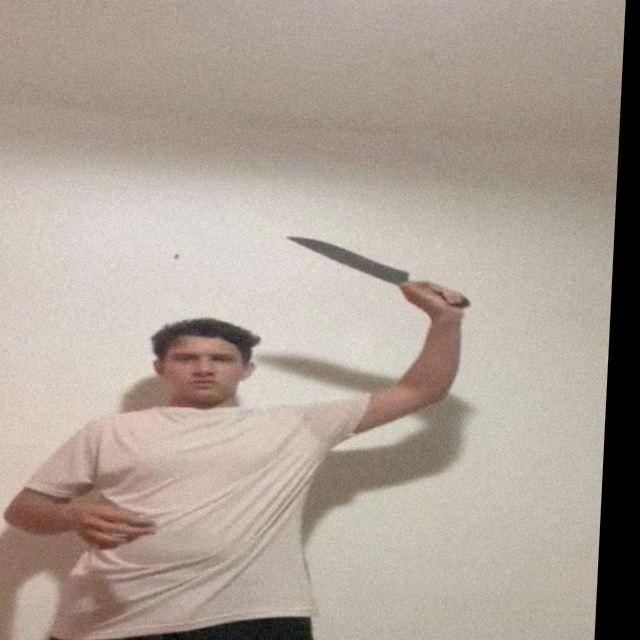Sharp-Object: (282, 234, 413, 279)
